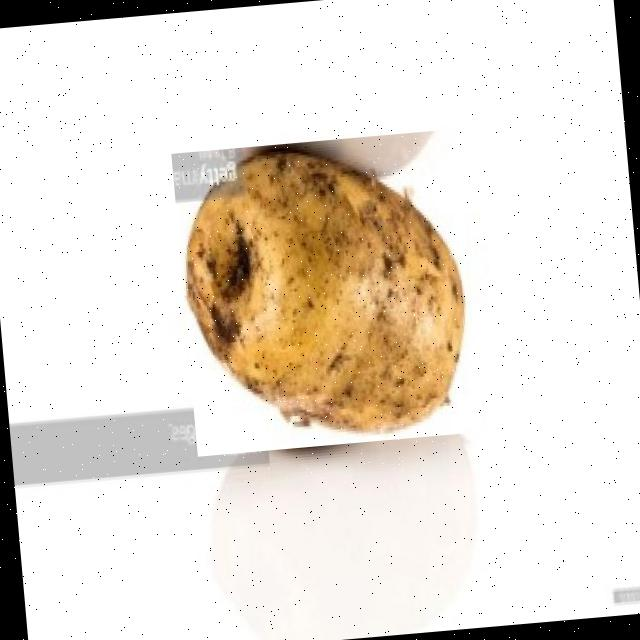Potato: (170, 128, 481, 456)
